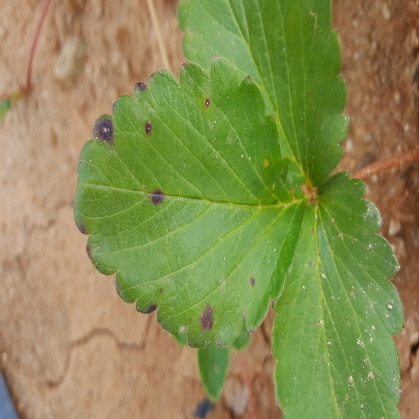Leaf_Spot: (14, 171, 312, 418), (108, 54, 346, 349)
